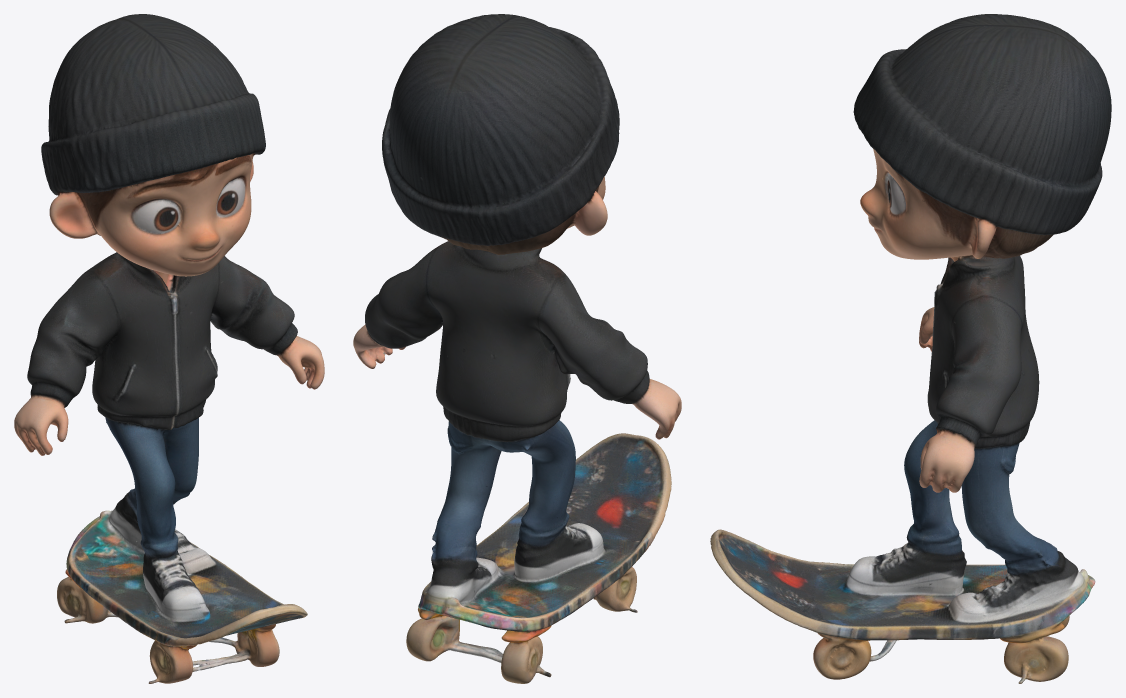
File: player_game.glb
3 views of the same model, side by side, from view 1: azimuth 30°, elevation 25°; view 2: azimuth 150°, elevation 25°; view 3: azimuth 270°, elevation 25° (orthographic). The views are drawn at different scales.
Size of the model in its own units: 1.07 by 2 by 1.16.
1 material, 1 textured.
